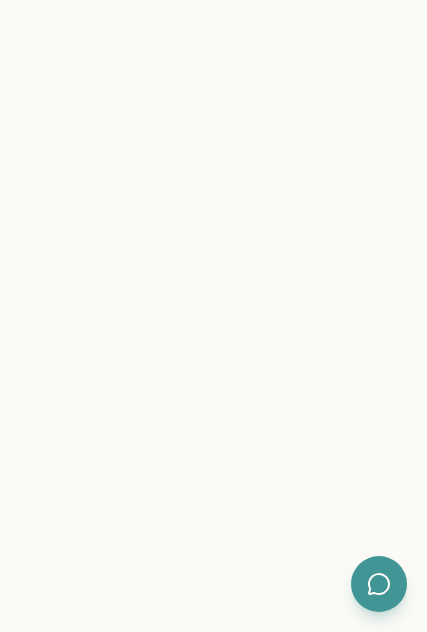
it: PublicChatbot › shows error text when sendPublicChatMessage rejects
Later steps or results of the test are not shown.
Click the button at (379, 584), box [351,556,407,612]
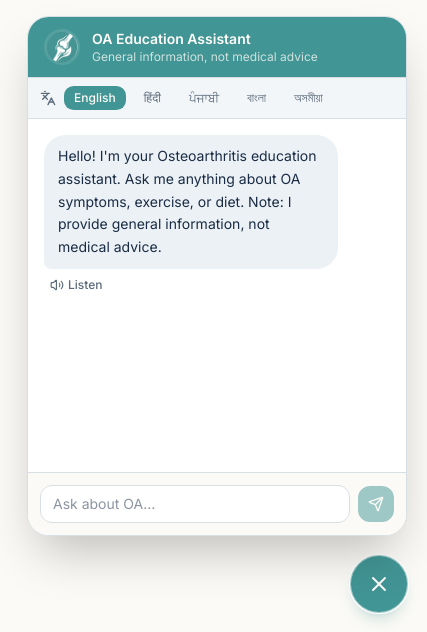
Check: the field is shown, box [40,485,350,523]
